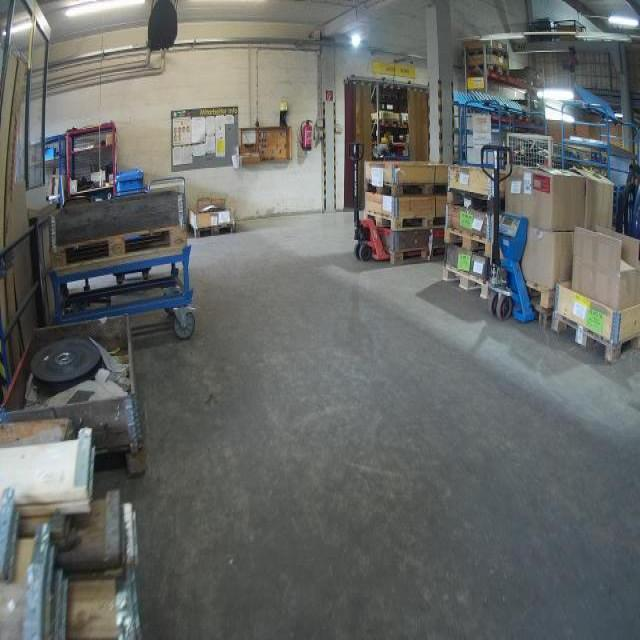pallet: (51, 223, 188, 276), (550, 310, 640, 368), (363, 177, 449, 199), (363, 209, 447, 231), (442, 265, 489, 300), (442, 226, 491, 259), (447, 187, 496, 217), (390, 243, 446, 267), (196, 223, 234, 242), (470, 63, 508, 79), (465, 48, 508, 59)
pallet_truck: (482, 140, 540, 328), (341, 137, 393, 265)
stillage: (498, 123, 578, 174)
